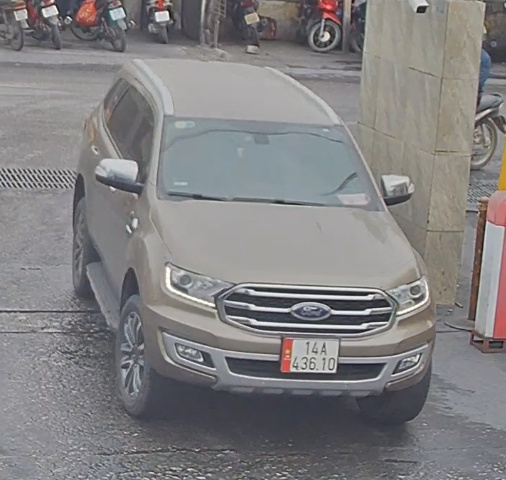vehicle plate: (278, 328, 346, 381)
